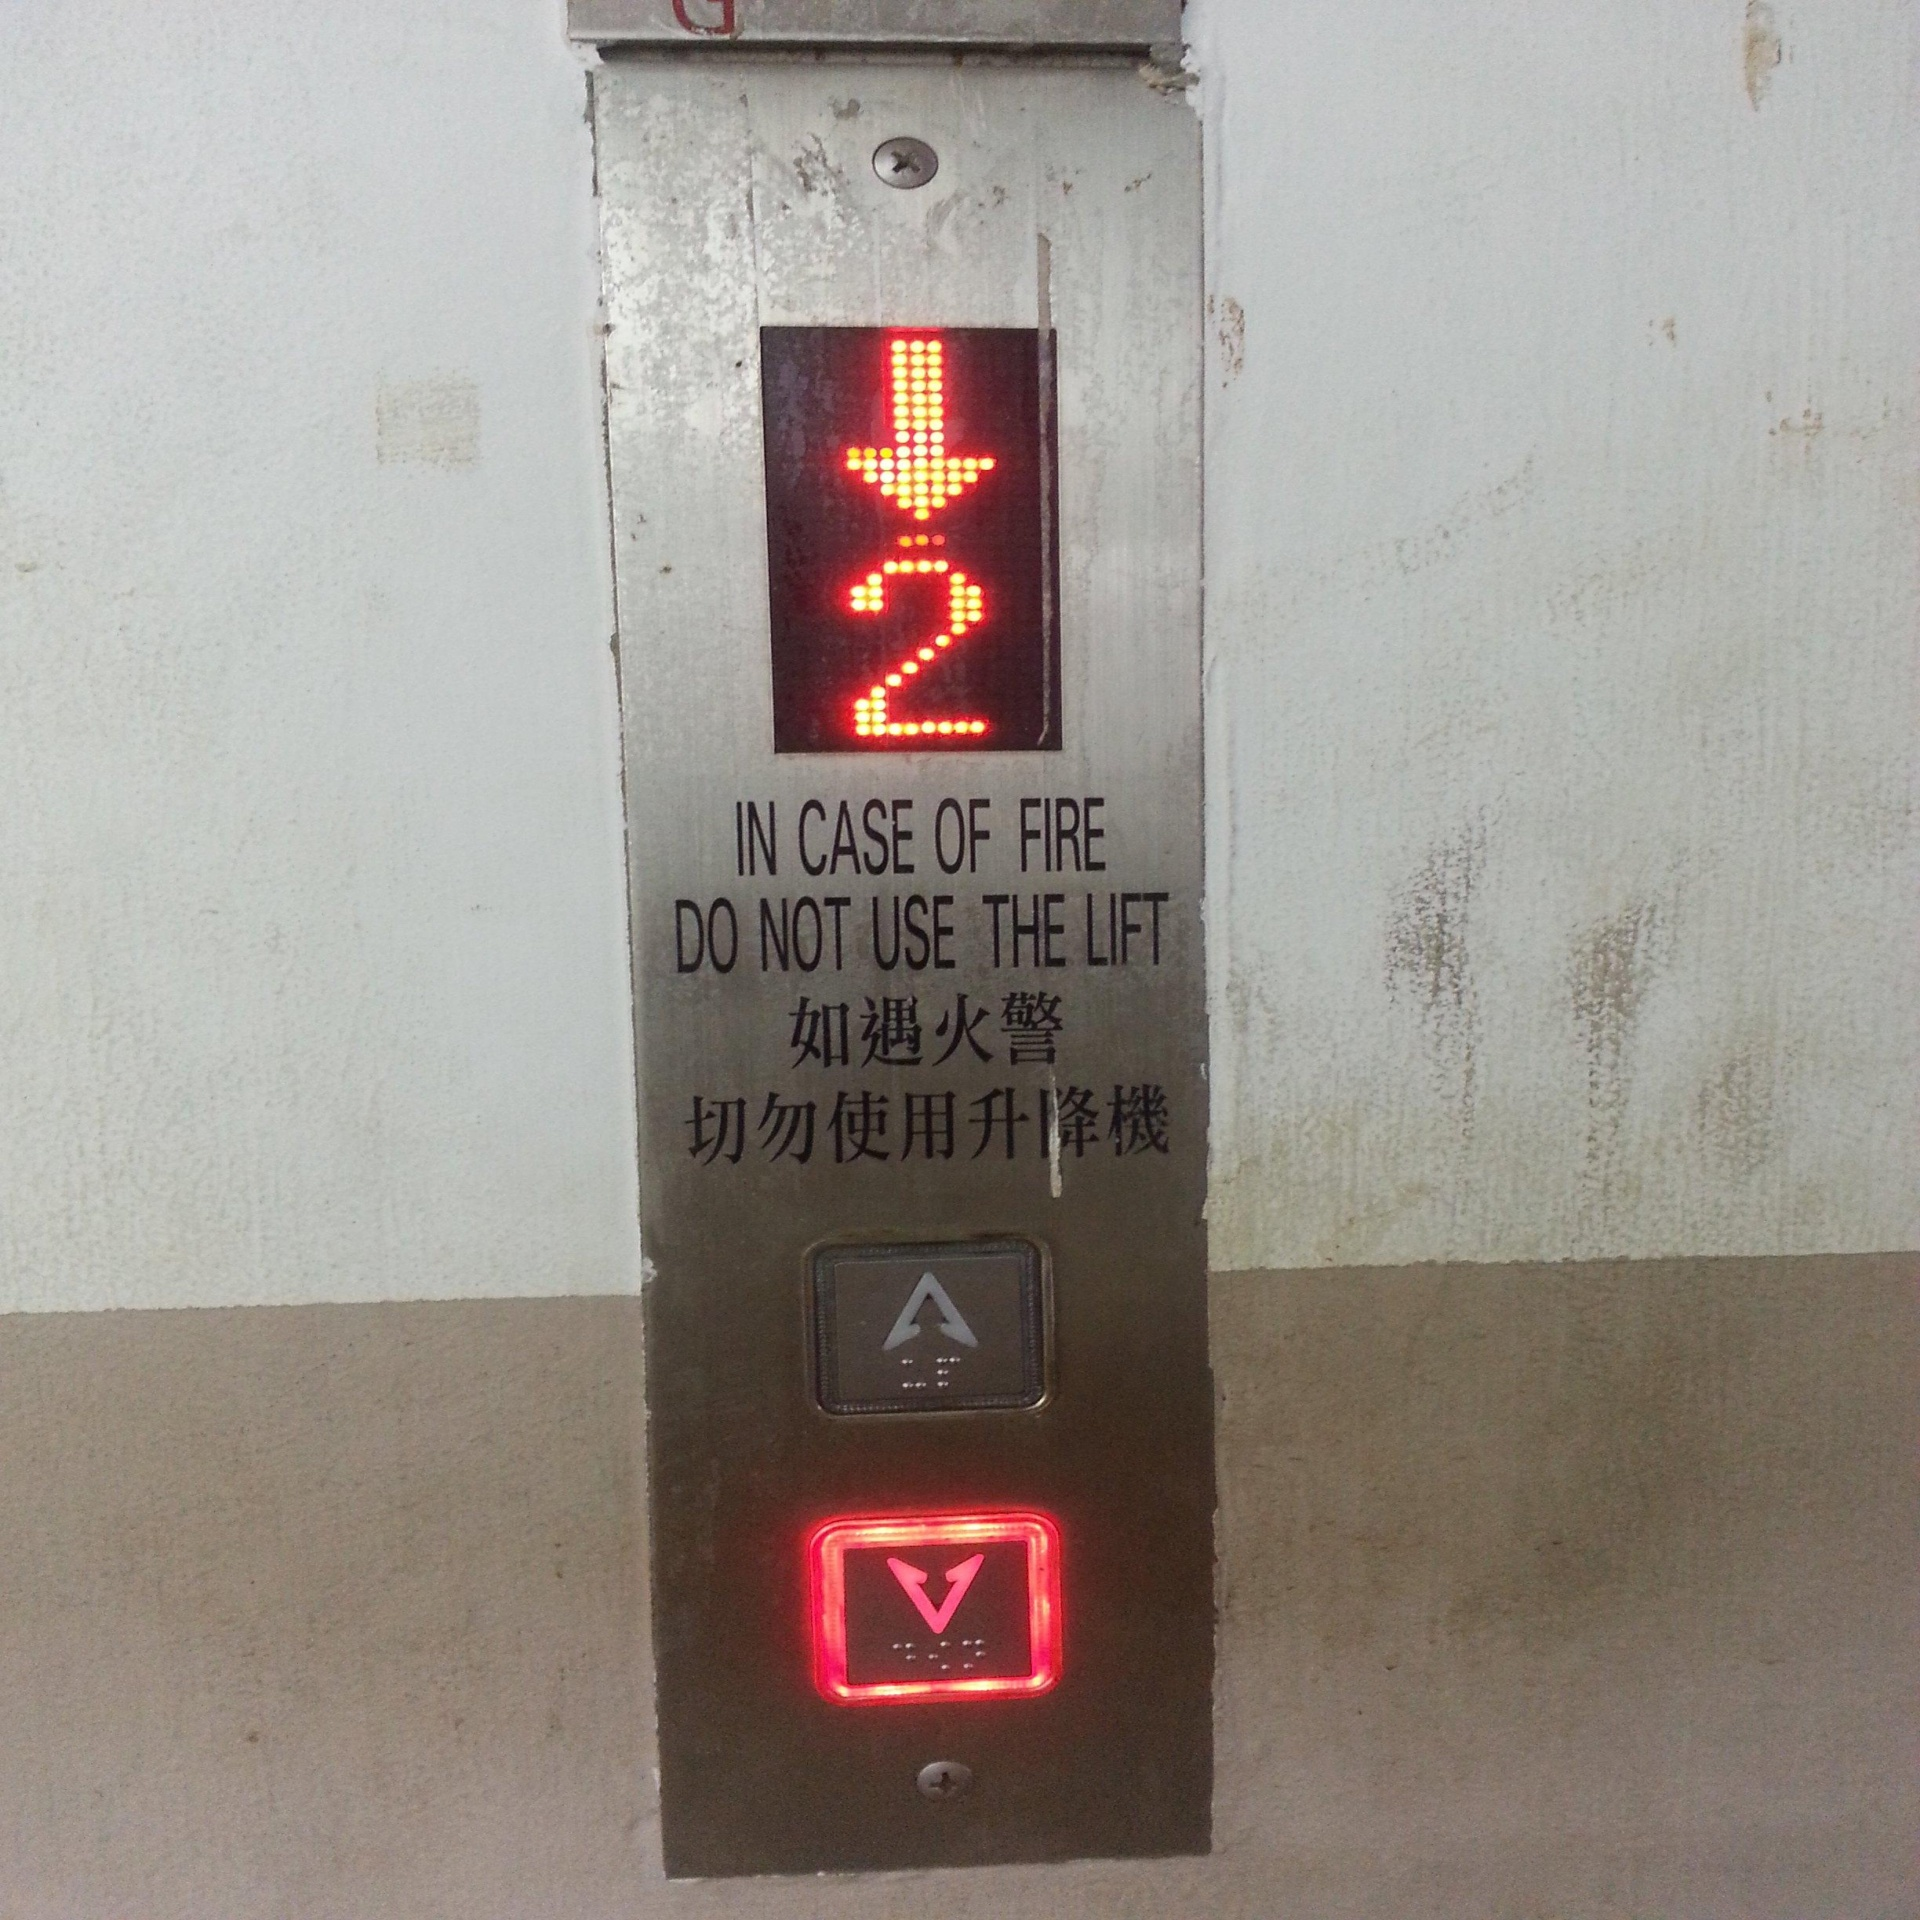down: (805, 1493, 1087, 1721)
led: (765, 331, 1078, 772)
up: (789, 1227, 1074, 1436)
